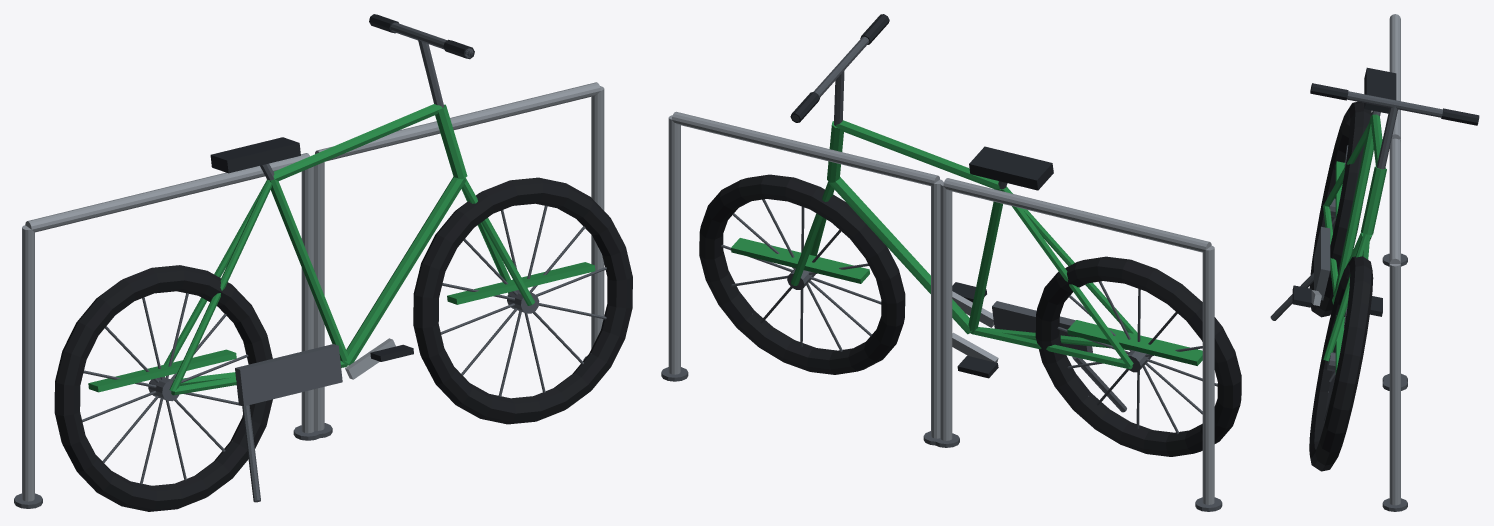
The model's file is bike_rack.glb.
3 renders of one model, left to right at view 1: azimuth 30°, elevation 25°; view 2: azimuth 150°, elevation 25°; view 3: azimuth 270°, elevation 25°, orthographic. The views are drawn at different scales.
Parts seen in each view (by area): view 1: BikeRack_Bike, BikeRack; view 2: BikeRack_Bike, BikeRack; view 3: BikeRack_Bike, BikeRack.
Part boxes in pixels (bbox=[...]): BikeRack_Bike: bbox=[54, 14, 632, 511]; BikeRack: bbox=[14, 82, 604, 508]; BikeRack_Bike: bbox=[699, 14, 1241, 456]; BikeRack: bbox=[661, 111, 1222, 511]; BikeRack_Bike: bbox=[1270, 67, 1479, 471]; BikeRack: bbox=[1382, 14, 1407, 511].
Size of the model in its own units: 0.1806 by 0.1146 by 0.0624.
